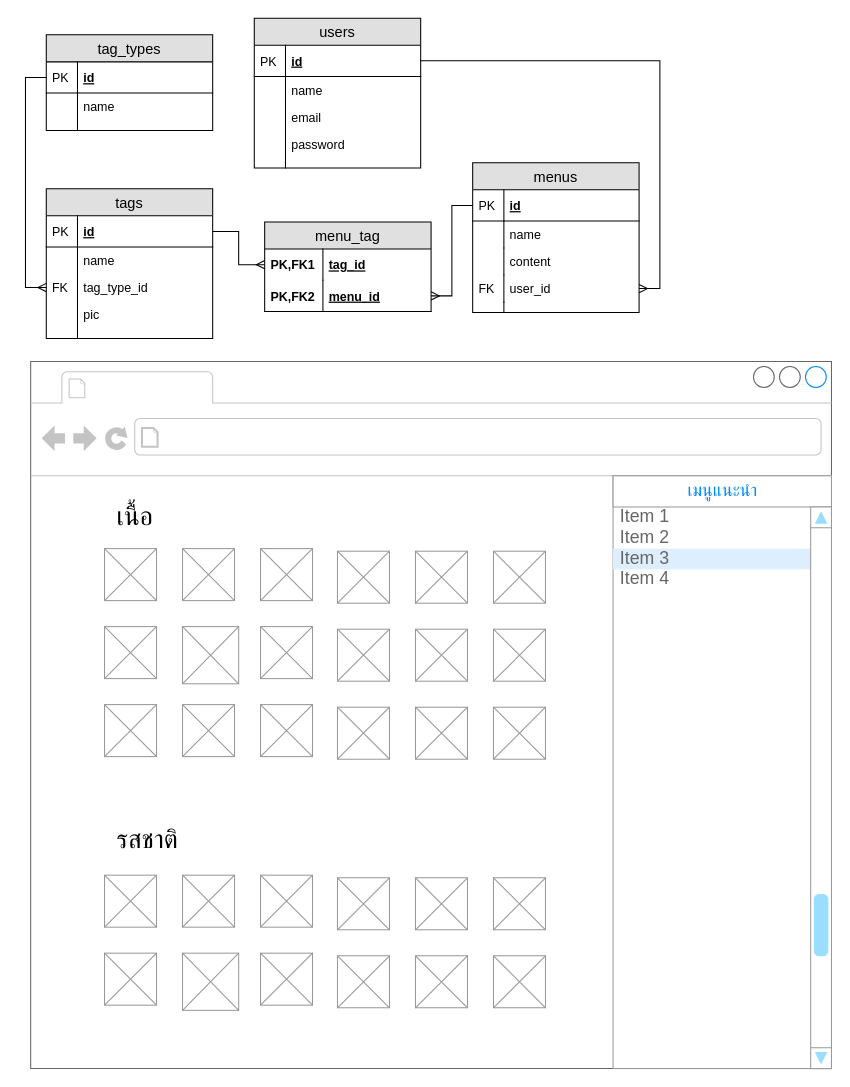
Image size: 850x1087. Some labels were removed from this diagram. The centre of each missing label's shape, as x and y in pixels:
"Home" goes at point (149, 387).
"https://www.draw.io" goes at point (295, 437).
